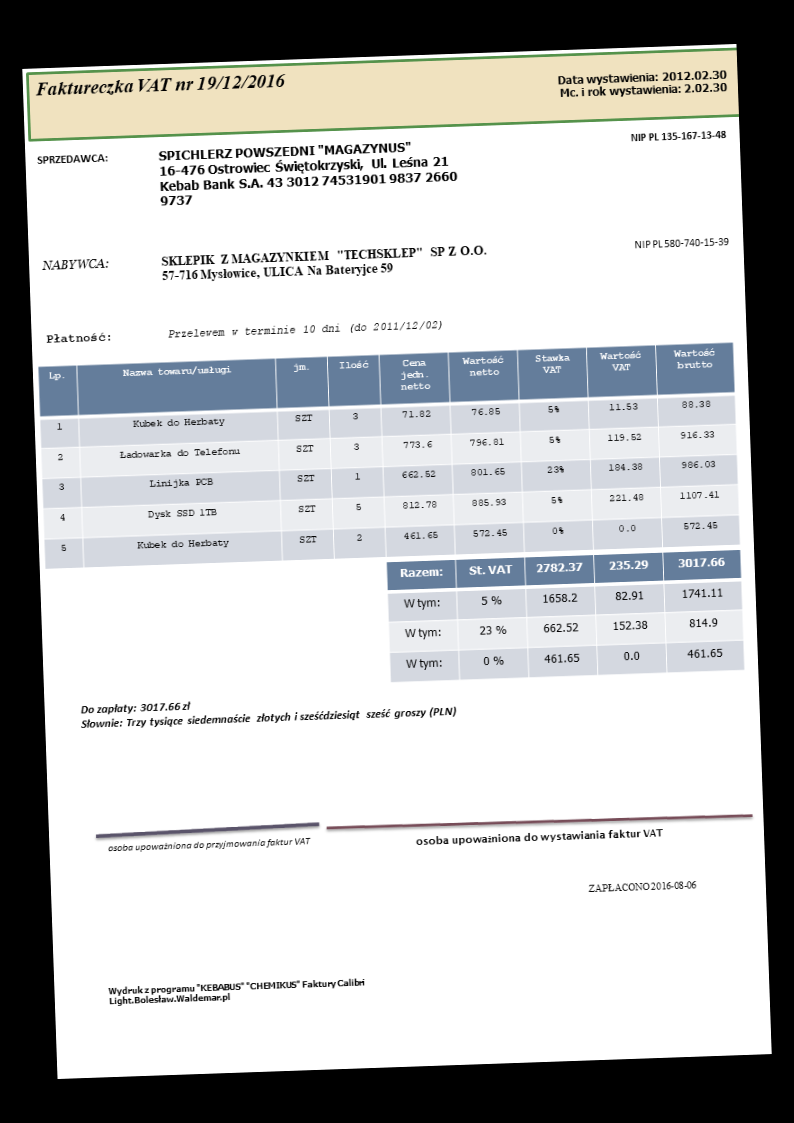Table: (36, 339, 742, 572), (385, 549, 746, 684)
TextBox: (156, 137, 461, 208), (78, 689, 458, 733), (159, 242, 488, 285), (106, 975, 368, 1007), (33, 70, 288, 101), (165, 315, 444, 343), (413, 825, 663, 850), (556, 66, 729, 100), (105, 834, 312, 857), (585, 877, 699, 896), (632, 234, 731, 253), (629, 126, 730, 144), (39, 253, 111, 274), (35, 150, 108, 168), (44, 329, 115, 346)
